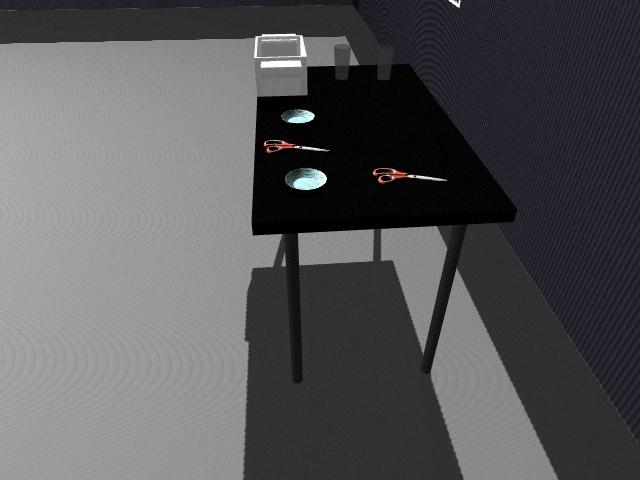cup: (375, 45, 393, 82), (334, 43, 351, 81)
plate: (284, 167, 328, 191), (280, 108, 316, 125)
scissors: (372, 166, 447, 185), (263, 139, 329, 154)
